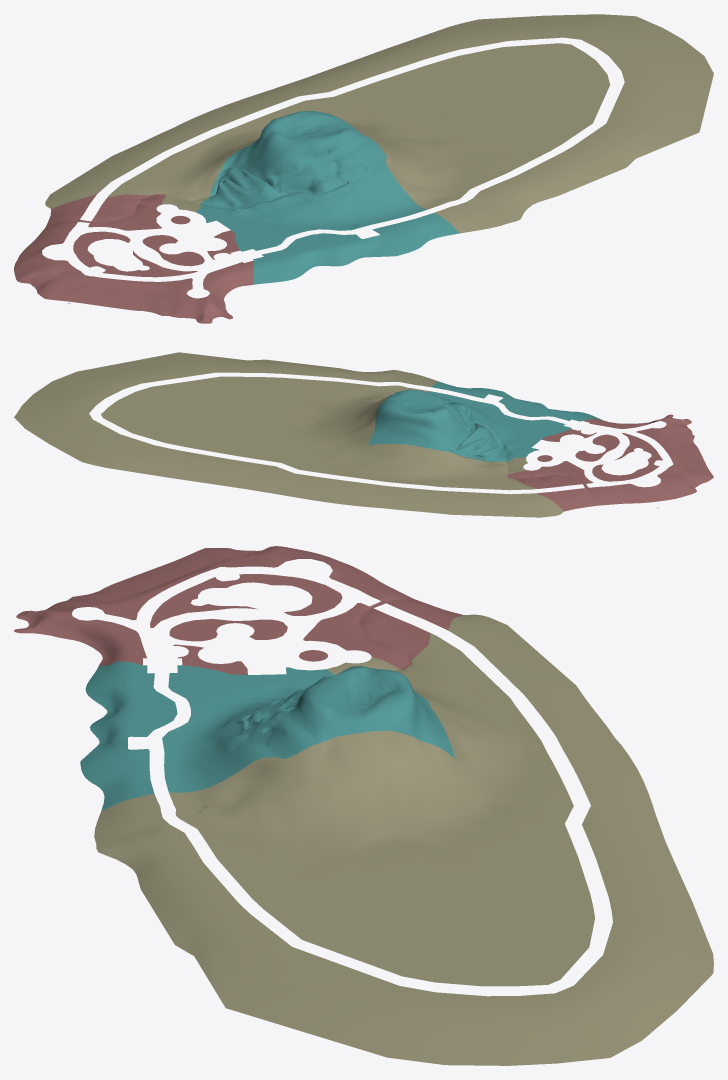
Rendered from ground_1.fbx.
3 renders of one model, top to bottom at view 1: azimuth 30°, elevation 25°; view 2: azimuth 150°, elevation 25°; view 3: azimuth 270°, elevation 25°, orthographic. The views are drawn at different scales.
Visible parts, largest first — view 1: ground1; view 2: ground1; view 3: ground1.
Boxes of the visible parts, x1,y1,x2,y2 form: ground1: (14,14,713,323); ground1: (14,352,713,517); ground1: (14,546,713,1065).
Bounding box in the file's own units: 491208 × 56088 × 279511.
